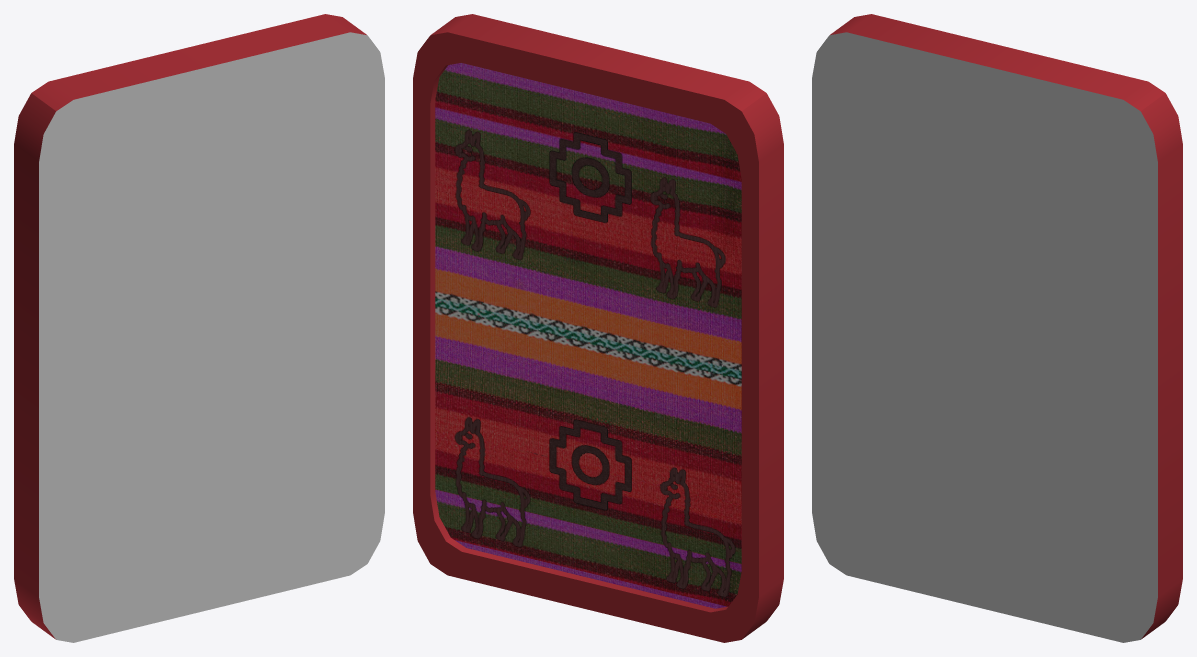
The model's file is target03.fbx.
3 renders of one model, left to right at view 1: azimuth 30°, elevation 25°; view 2: azimuth 150°, elevation 25°; view 3: azimuth 330°, elevation 25°, orthographic.
Visible parts, largest first — view 1: Target; view 2: Target; view 3: Target.
Part boxes in pixels (x1,y1,x2,y2): Target: [14, 14, 384, 642]; Target: [413, 14, 783, 642]; Target: [812, 14, 1182, 642].
Size of the model in its own units: 50 by 75 by 6.25.
